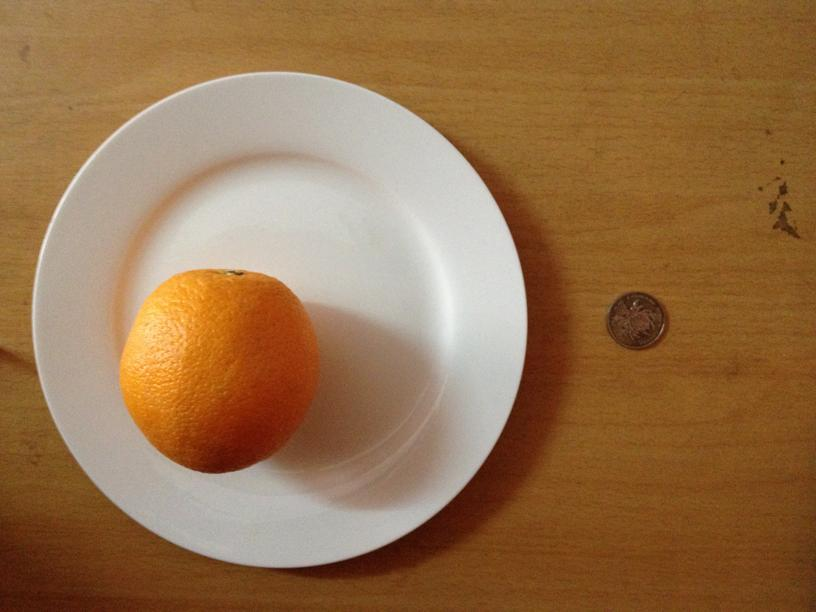coin: (603, 290, 671, 350)
orange: (117, 265, 318, 473)
